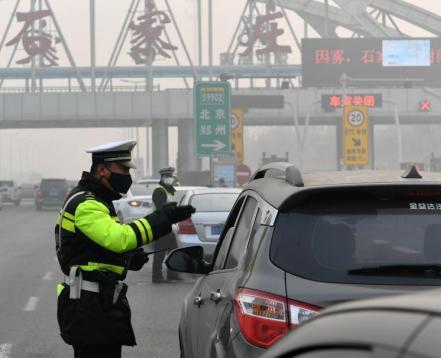car: (177, 159, 441, 356), (171, 187, 259, 265), (102, 181, 163, 233), (32, 176, 71, 211), (1, 178, 24, 206)
person: (52, 138, 196, 358), (151, 165, 186, 285)
